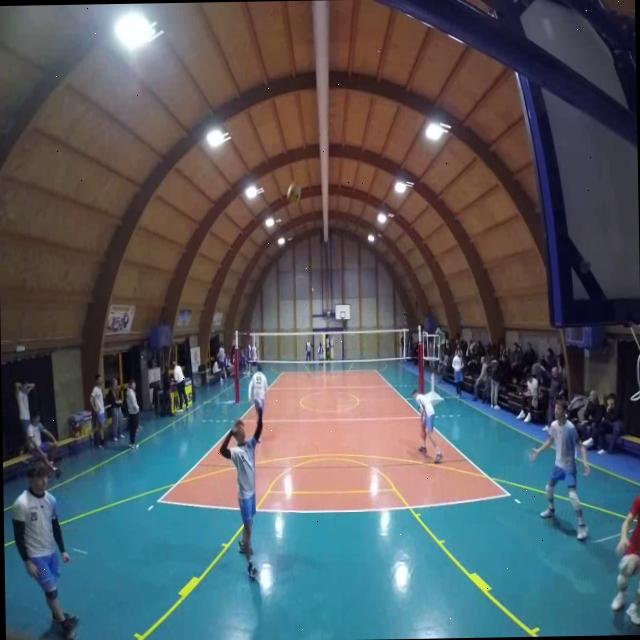Volleyball: (286, 181, 302, 209)
